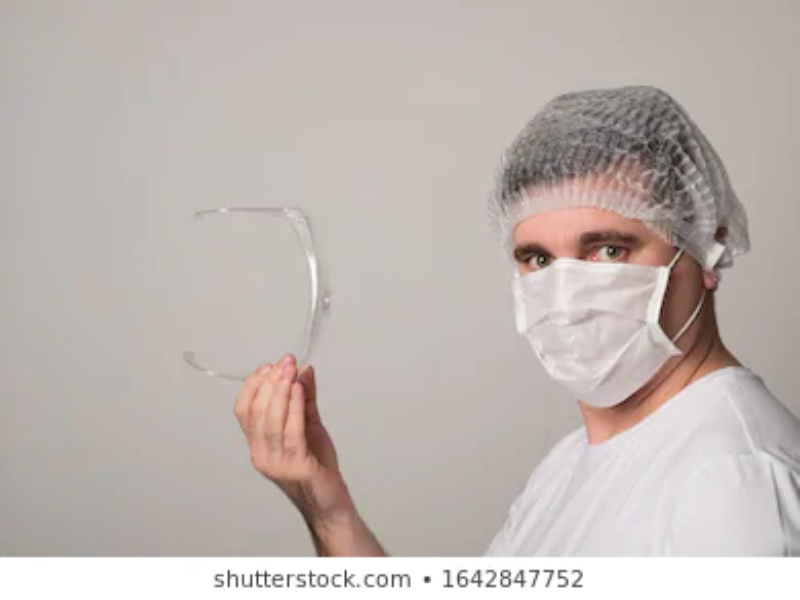ManaoArotava: (477, 89, 706, 412)
